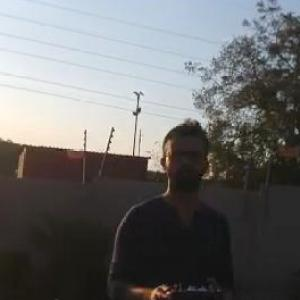follow: (101, 117, 239, 299)
